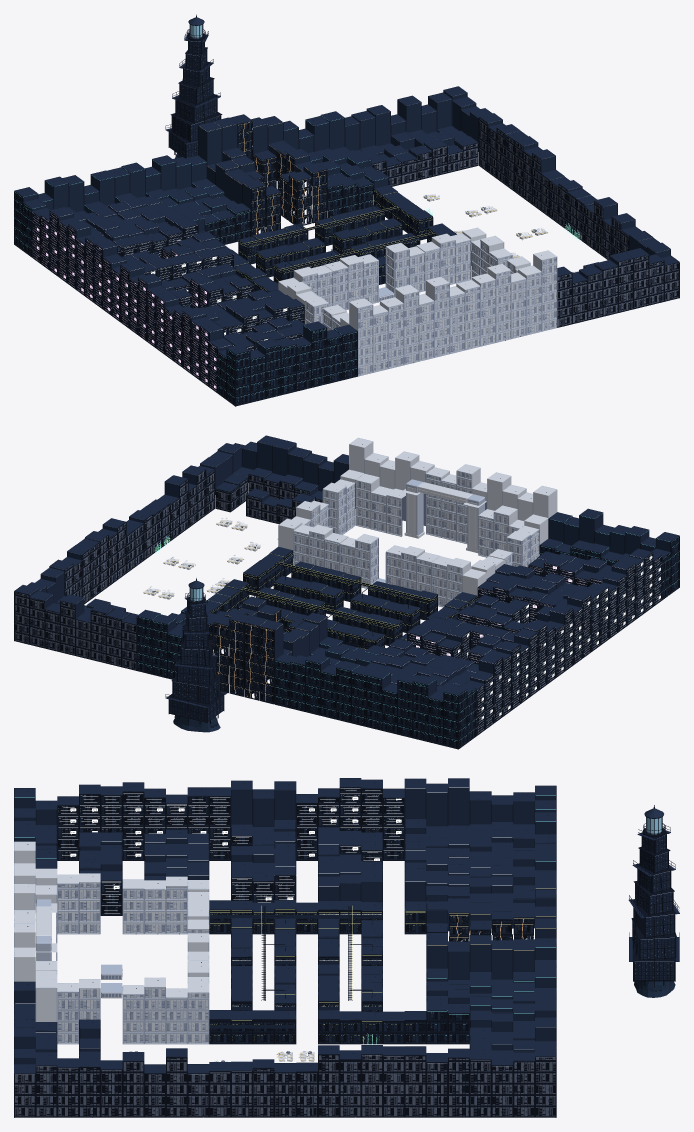
The model's file is cache_sea_deep.fbx.
The picture shows the model from 3 angles, top to bottom: view 1: azimuth 30°, elevation 25°; view 2: azimuth 150°, elevation 25°; view 3: azimuth 270°, elevation 25°; orthographic projection. The views are drawn at different scales.
Parts seen in each view (by area): view 1: Lighthouse_Structure, Servers_CableBridge_00, Servers_CableBridge_01; view 2: Lighthouse_Structure, WhiteDoor_Frame, Servers_CableBridge_01, Servers_CableBridge_00; view 3: Lighthouse_Structure, WhiteDoor_Frame, Rack_c28_r20_W_Step, Rack_c28_r10_W_Step, Rack_c08_r01_W_Step, Rack_c28_r19_W_Step, Rack_c28_r18_W_Step, Rack_c12_r22_W_Step, Rack_c28_r12_W_Step, Rack_c28_r11_W_Step, Rack_c12_r21_W_Step, Rack_c12_r20_W_Step (+14 smaller).
Part boxes in pixels (bbox=[...]): Lighthouse_Structure: bbox=[165, 14, 222, 158]; Servers_CableBridge_00: bbox=[241, 205, 399, 246]; Servers_CableBridge_01: bbox=[276, 230, 435, 272]; Lighthouse_Structure: bbox=[165, 578, 227, 732]; WhiteDoor_Frame: bbox=[404, 479, 484, 553]; Servers_CableBridge_01: bbox=[276, 562, 435, 608]; Servers_CableBridge_00: bbox=[241, 588, 399, 635]; Lighthouse_Structure: bbox=[628, 805, 679, 997]; WhiteDoor_Frame: bbox=[36, 899, 51, 960]; Rack_c28_r20_W_Step: bbox=[448, 787, 469, 825]; Rack_c28_r10_W_Step: bbox=[231, 789, 252, 824]; Rack_c08_r01_W_Step: bbox=[35, 988, 57, 1021]; Rack_c28_r19_W_Step: bbox=[426, 792, 447, 826]; Rack_c28_r18_W_Step: bbox=[404, 788, 426, 818]; Rack_c12_r22_W_Step: bbox=[491, 949, 513, 979]; Rack_c28_r12_W_Step: bbox=[274, 790, 296, 819]; Rack_c28_r11_W_Step: bbox=[252, 798, 274, 826]; Rack_c12_r21_W_Step: bbox=[469, 944, 491, 971]; Rack_c12_r20_W_Step: bbox=[448, 951, 469, 979].
Size of the model in its own units: 116 by 36.82 by 123.
